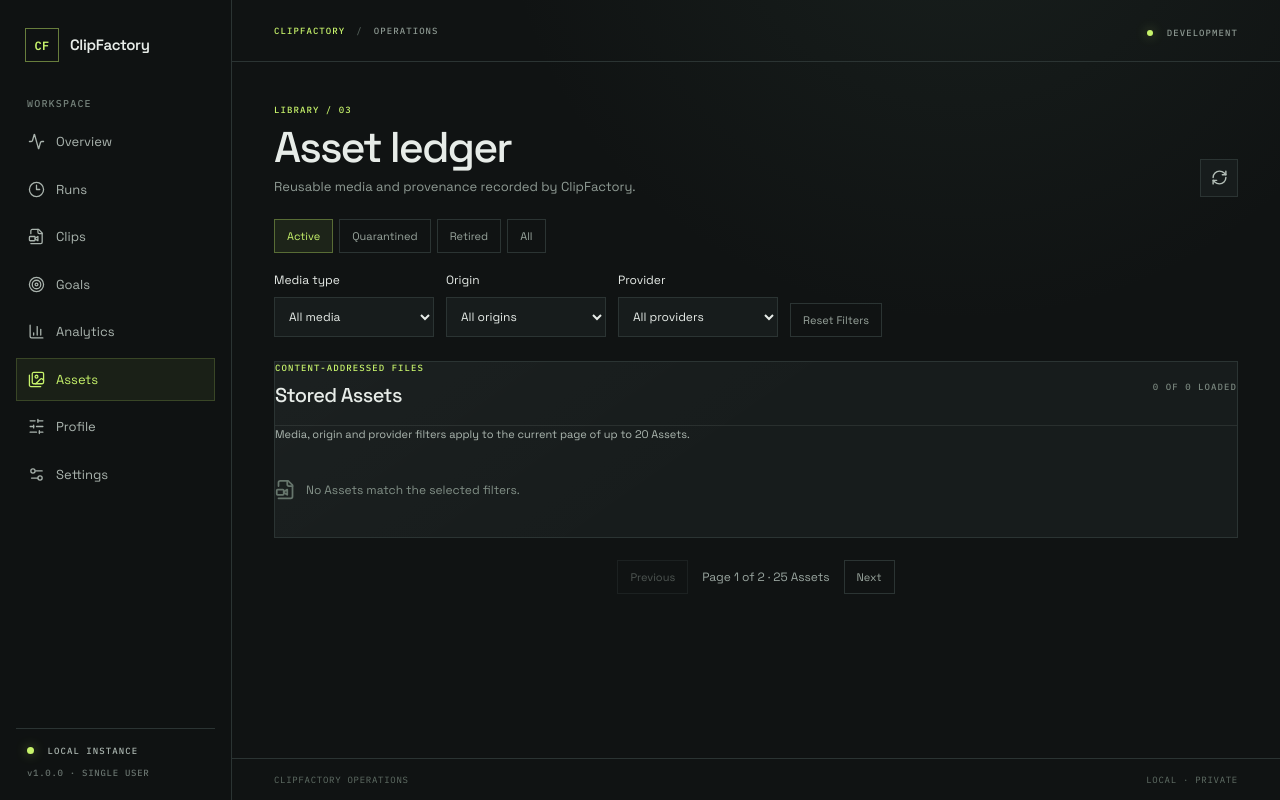
CF-REQ-605 paginates Assets by 20 and resets the page on status changes
Expected: the text "Page 1 of 2 · 25 Assets" is shown, [702,568,830,586]
Click the button "Next": (869, 577) [844,560,895,594]
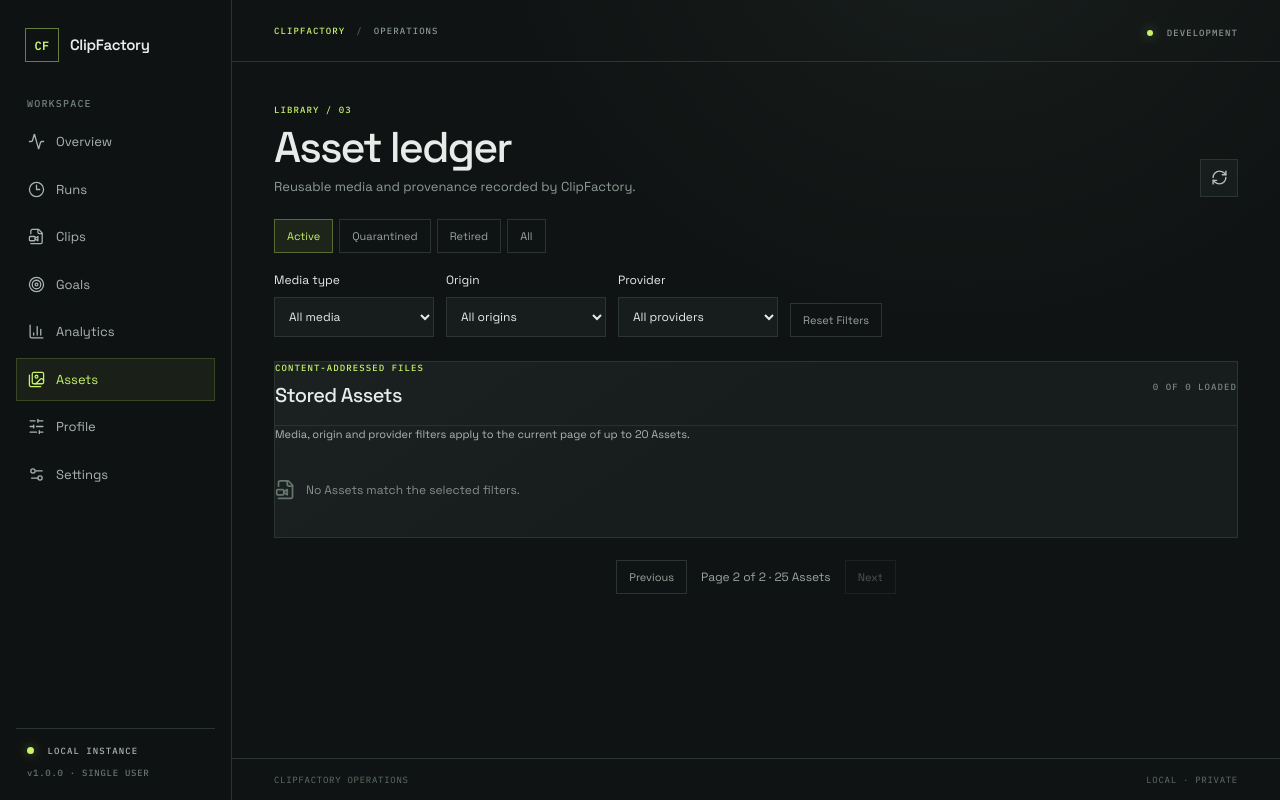
Now the text "Page 2 of 2 · 25 Assets" is shown, box [701,568,831,586]
Click the button "retired": (469, 236) [437,219,501,253]
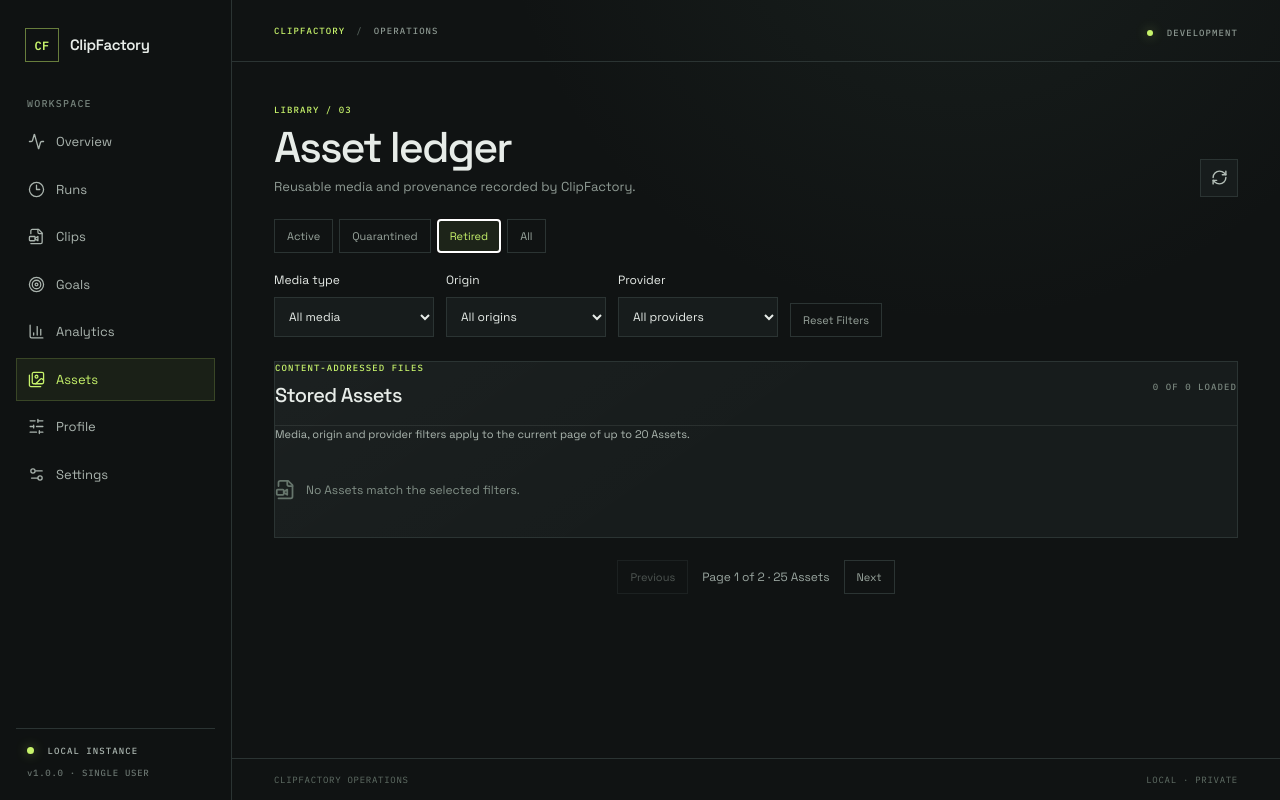
Now the text "Page 1 of 2 · 25 Assets" is shown, box [702,568,830,586]
